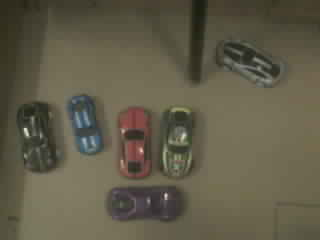Car: (216, 40, 283, 87), (17, 102, 56, 171), (107, 186, 182, 220), (160, 106, 194, 177), (118, 107, 151, 178), (67, 95, 102, 154)
